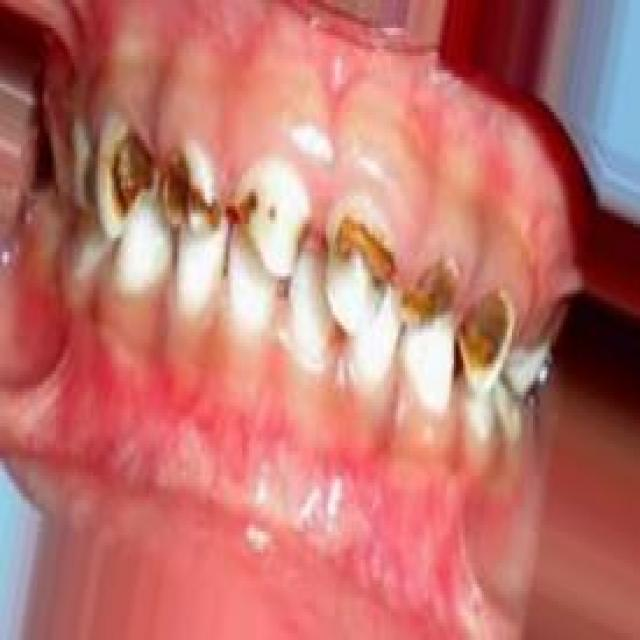caries: (323, 197, 399, 335), (156, 134, 226, 249), (456, 270, 518, 395), (102, 114, 160, 237), (397, 240, 459, 345), (225, 162, 278, 261), (71, 131, 105, 216)
